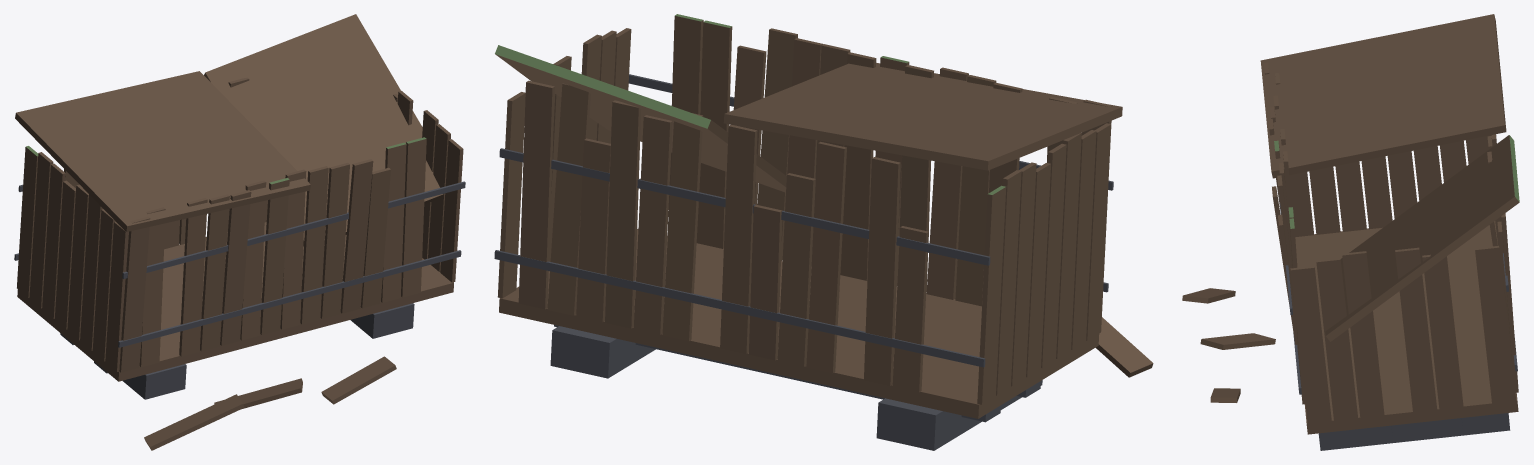
The model's file is rail_car.glb.
3 renders of one model, left to right at view 1: azimuth 30°, elevation 25°; view 2: azimuth 150°, elevation 25°; view 3: azimuth 270°, elevation 25°, orthographic. The views are drawn at different scales.
Parts seen in each view (by area): view 1: rail_car; view 2: rail_car; view 3: rail_car.
Boxes of the visible parts, bbox=[...] form: rail_car: bbox=[14, 14, 465, 450]; rail_car: bbox=[494, 14, 1153, 450]; rail_car: bbox=[1182, 14, 1519, 450].
Bounding box in the file's own units: 5.36 × 3.53 × 3.82.
